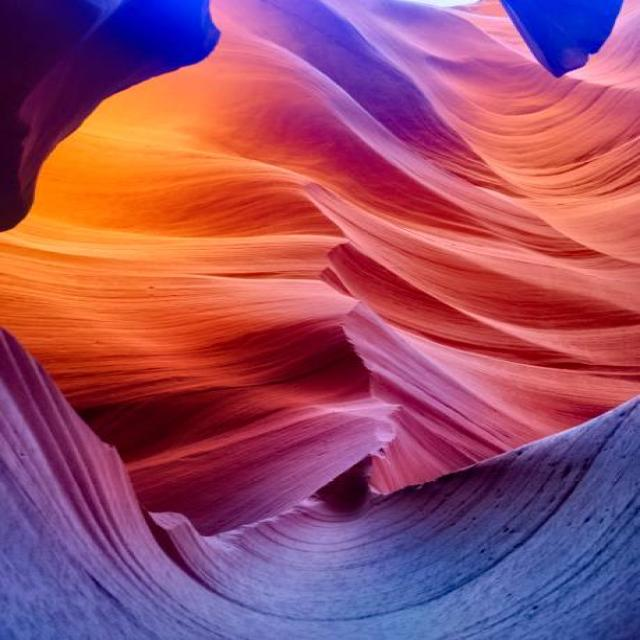Sedimentary: (1, 1, 638, 636)
